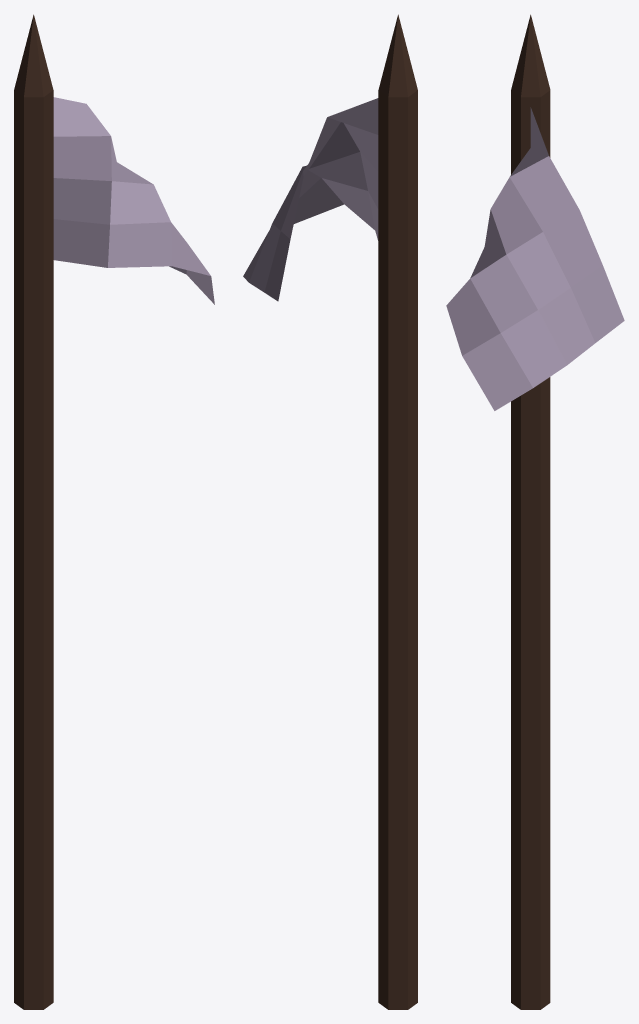
Rendered from flag-1.fbx.
3 views of the same model, side by side, from view 1: azimuth 30°, elevation 25°; view 2: azimuth 150°, elevation 25°; view 3: azimuth 270°, elevation 25° (orthographic).
Visible parts, largest first — view 1: flag-1; view 2: flag-1; view 3: flag-1.
Boxes of the visible parts, box(x1,y1,x2,y2) form: flag-1: box(14, 14, 214, 1009); flag-1: box(243, 14, 417, 1009); flag-1: box(446, 14, 624, 1009).
Bounding box in the file's own units: 48.96 × 260 × 42.53.
